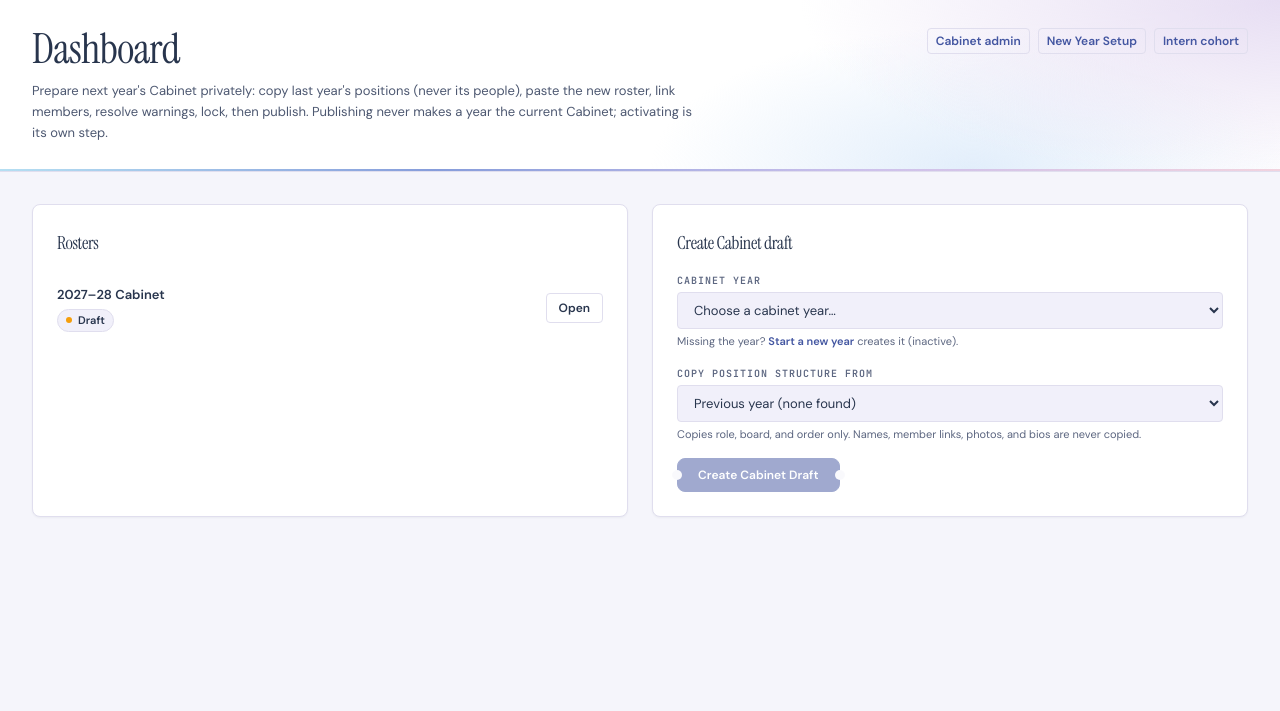
it: filters, bulk actions, structure copy, and preview › shows progress and the year context
What coordinates should you click on to do the following:
click the button "Open"
I would click on:
 (574, 308)
Its box is [546, 293, 603, 323].
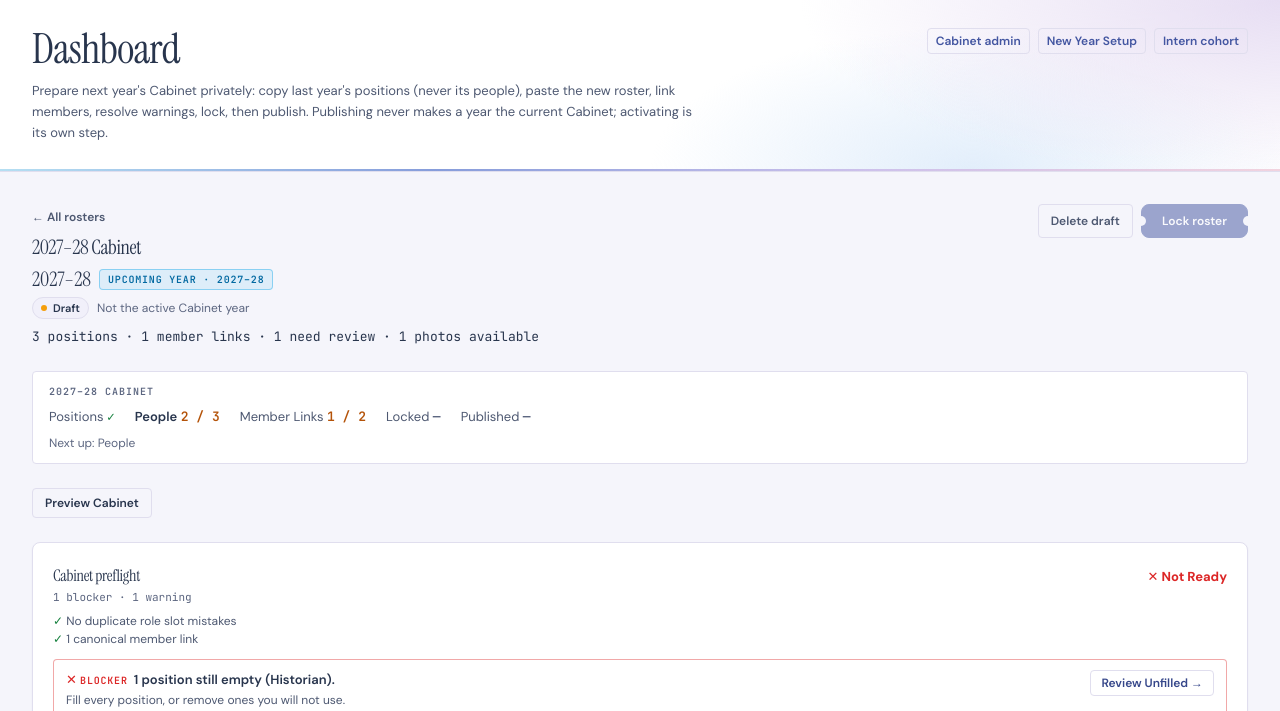
Expected: the heading "2027–28 Cabinet" is shown, [32, 234, 141, 260]
Expected: the element named "2027–28 Cabinet progress" shows "People 2 / 3", [32, 371, 1248, 464]
Expected: the text "Upcoming year · 2027–28" is shown, [99, 268, 273, 290]
